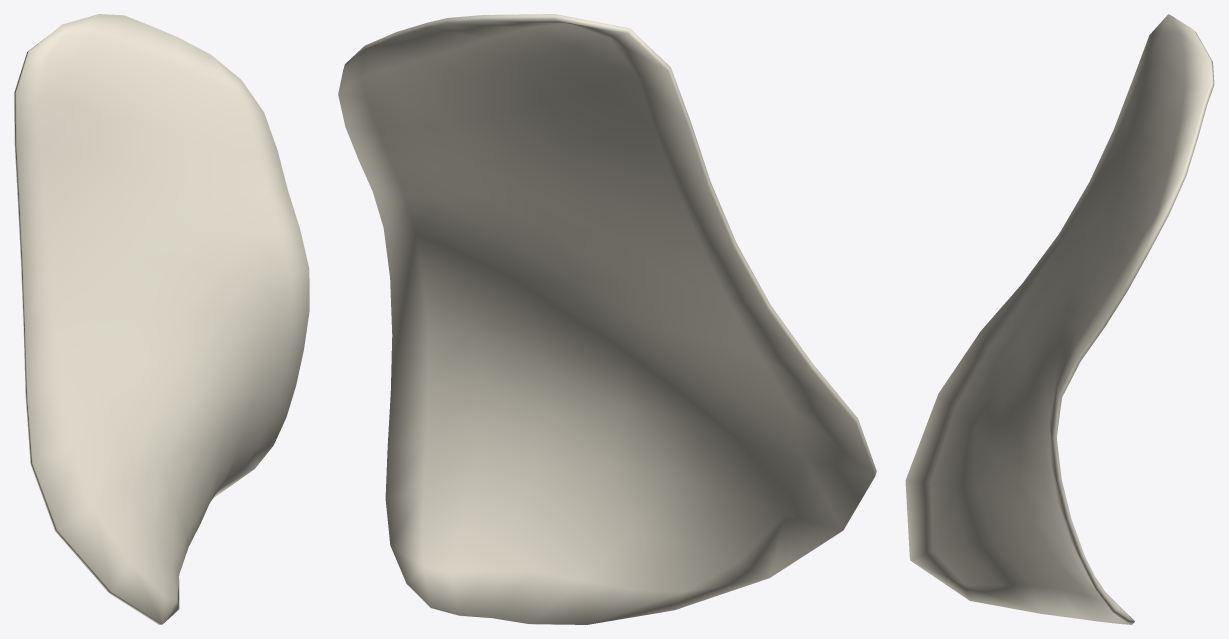
3 views of the same model, side by side, from view 1: azimuth 30°, elevation 25°; view 2: azimuth 150°, elevation 25°; view 3: azimuth 270°, elevation 25° (orthographic). The views are drawn at different scales.
Parts seen in each view (by area): view 1: ZA_b191f37394b1386c; view 2: ZA_b191f37394b1386c; view 3: ZA_b191f37394b1386c.
Boxes of the visible parts, x1,y1,x2,y2 form: ZA_b191f37394b1386c: (14,14,309,624); ZA_b191f37394b1386c: (338,14,876,624); ZA_b191f37394b1386c: (905,14,1214,624).
Bounding box in the file's own units: 0.0402 × 0.0633 × 0.0315.
